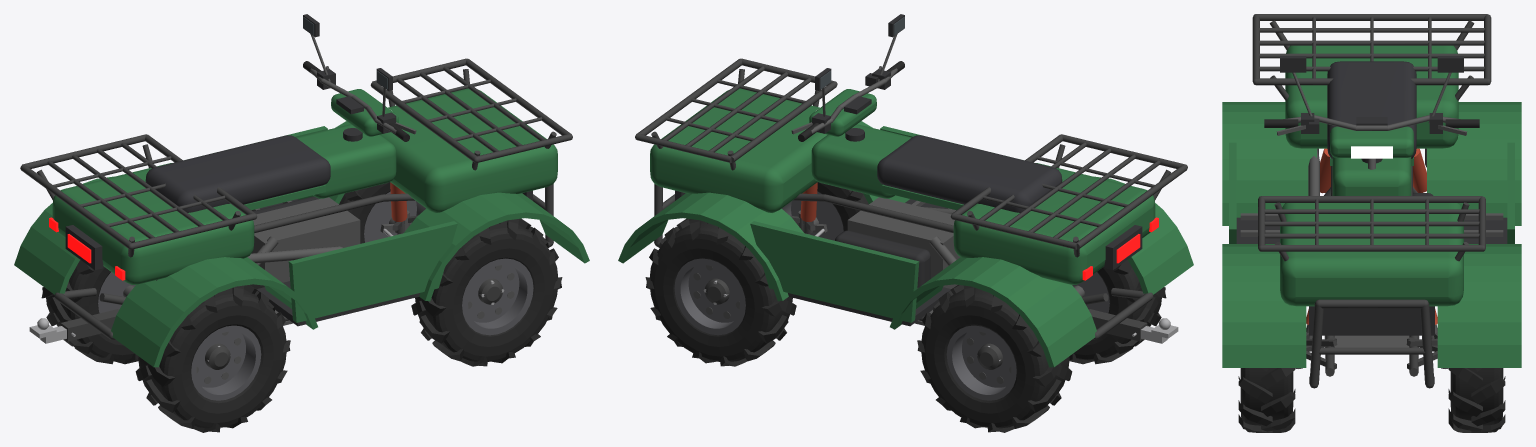
File: atv.glb
The picture shows the model from 3 angles, left to right: view 1: azimuth 30°, elevation 25°; view 2: azimuth 150°, elevation 25°; view 3: azimuth 270°, elevation 25°; orthographic projection. The views are drawn at different scales.
Parts seen in each view (by area): view 1: chassis, wheel_rear_right_spin, wheel_front_right_spin, wheel_rear_left_spin, handlebar_rotate, wheel_front_left_spin; view 2: chassis, wheel_rear_left_spin, wheel_front_left_spin, wheel_rear_right_spin, handlebar_rotate, wheel_front_right_spin; view 3: chassis, handlebar_rotate, wheel_front_right_spin, wheel_front_left_spin.
Part boxes in pixels (x1=…): chassis: x1=14, y1=58, x2=589, y2=367; wheel_rear_right_spin: x1=135, y1=285, x2=290, y2=432; wheel_front_right_spin: x1=411, y1=218, x2=562, y2=366; wheel_rear_left_spin: x1=41, y1=260, x2=138, y2=364; handlebar_rotate: x1=303, y1=14, x2=416, y2=141; wheel_front_left_spin: x1=339, y1=182, x2=425, y2=243; chassis: x1=618, y1=58, x2=1193, y2=367; wheel_rear_left_spin: x1=917, y1=285, x2=1072, y2=432; wheel_front_left_spin: x1=645, y1=218, x2=796, y2=366; wheel_rear_right_spin: x1=1069, y1=260, x2=1166, y2=364; handlebar_rotate: x1=791, y1=14, x2=904, y2=141; wheel_front_right_spin: x1=782, y1=182, x2=868, y2=240; chassis: x1=1222, y1=14, x2=1521, y2=388; handlebar_rotate: x1=1264, y1=56, x2=1479, y2=169; wheel_front_right_spin: x1=1238, y1=368, x2=1295, y2=432; wheel_front_left_spin: x1=1448, y1=368, x2=1505, y2=432.
Bounding box in the file's own units: 2.33 × 1.35 × 1.14.
Materials: 14 (14 with a texture image).
